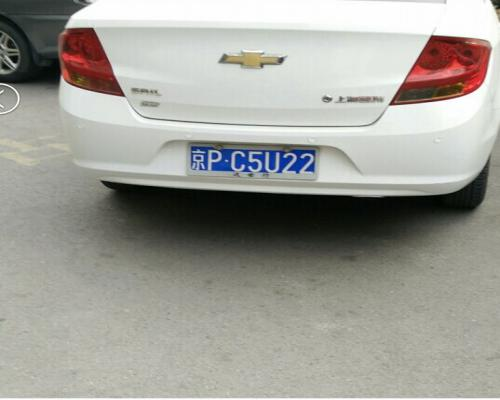Carplate: (182, 136, 320, 185)
